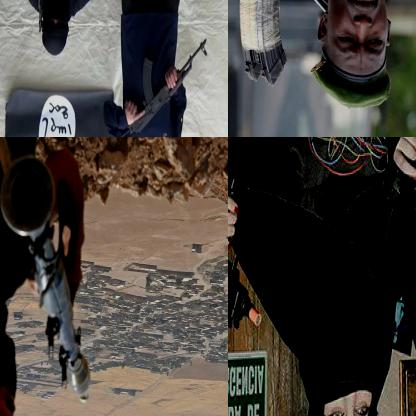pistol: (228, 200, 264, 338)
rifle: (0, 157, 98, 404), (102, 36, 210, 136), (228, 0, 330, 89), (20, 0, 57, 35)
